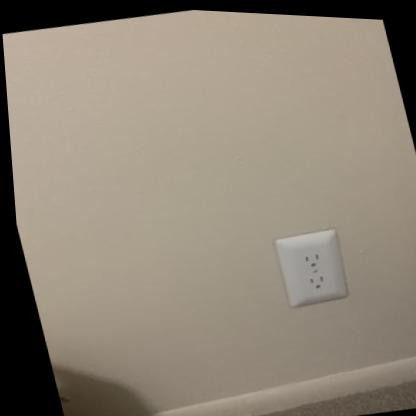OUTLET: (271, 225, 354, 309)
